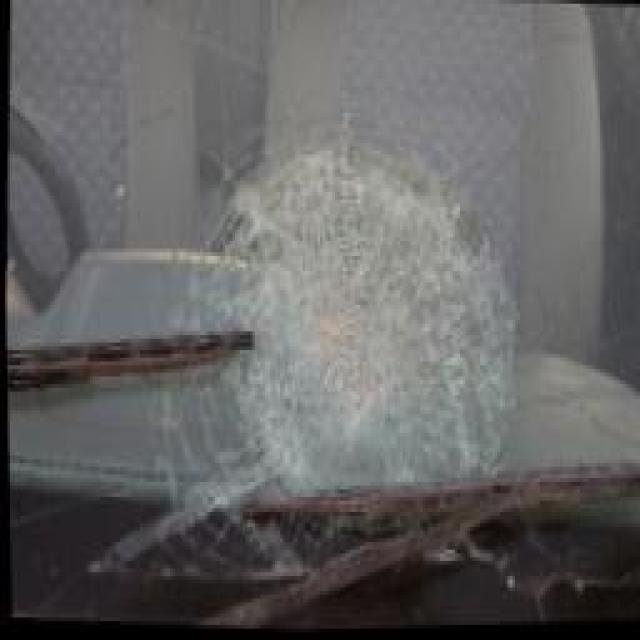Windshield: (5, 0, 640, 632)
